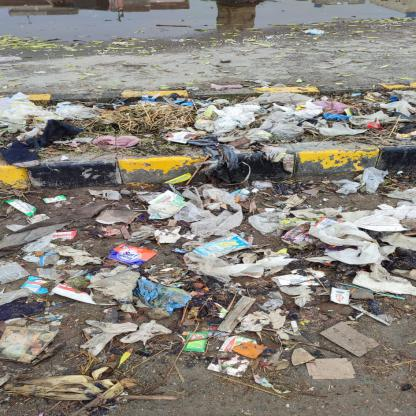Garbage: (1, 90, 416, 400)
